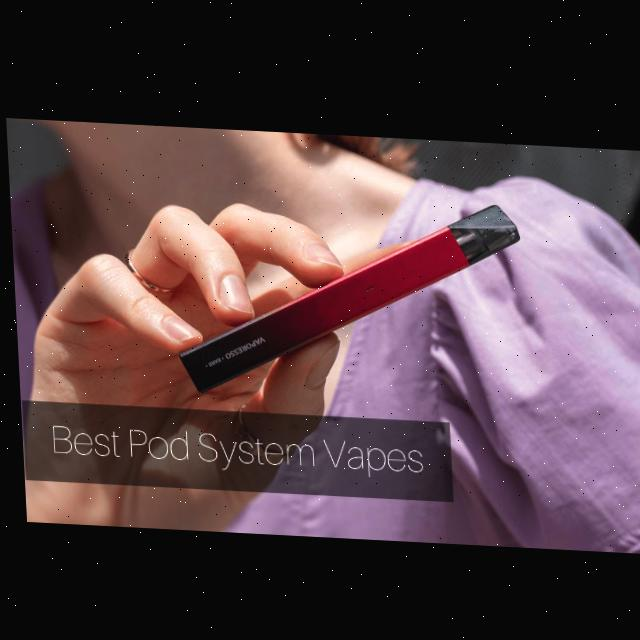vape: (167, 186, 524, 410)
